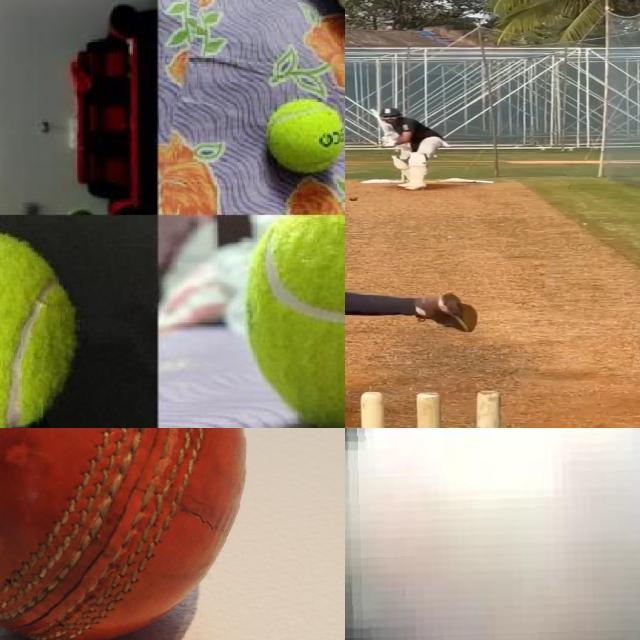Cricket ball: (345, 428, 640, 640), (0, 428, 248, 640), (0, 222, 88, 428), (349, 196, 360, 202)
Stumps: (355, 389, 504, 428)
